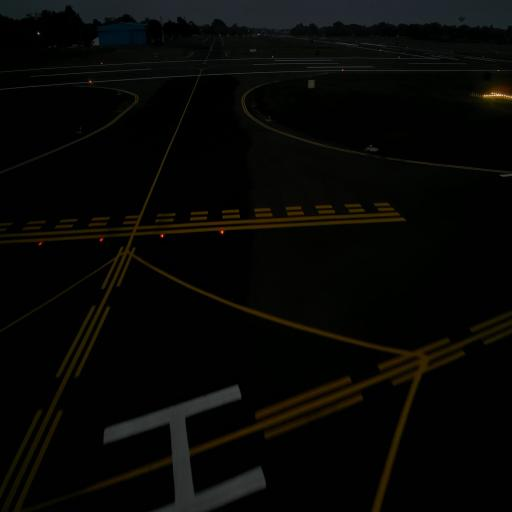on: (36, 235, 47, 258), (158, 227, 167, 246), (96, 230, 104, 248), (218, 224, 225, 242)
